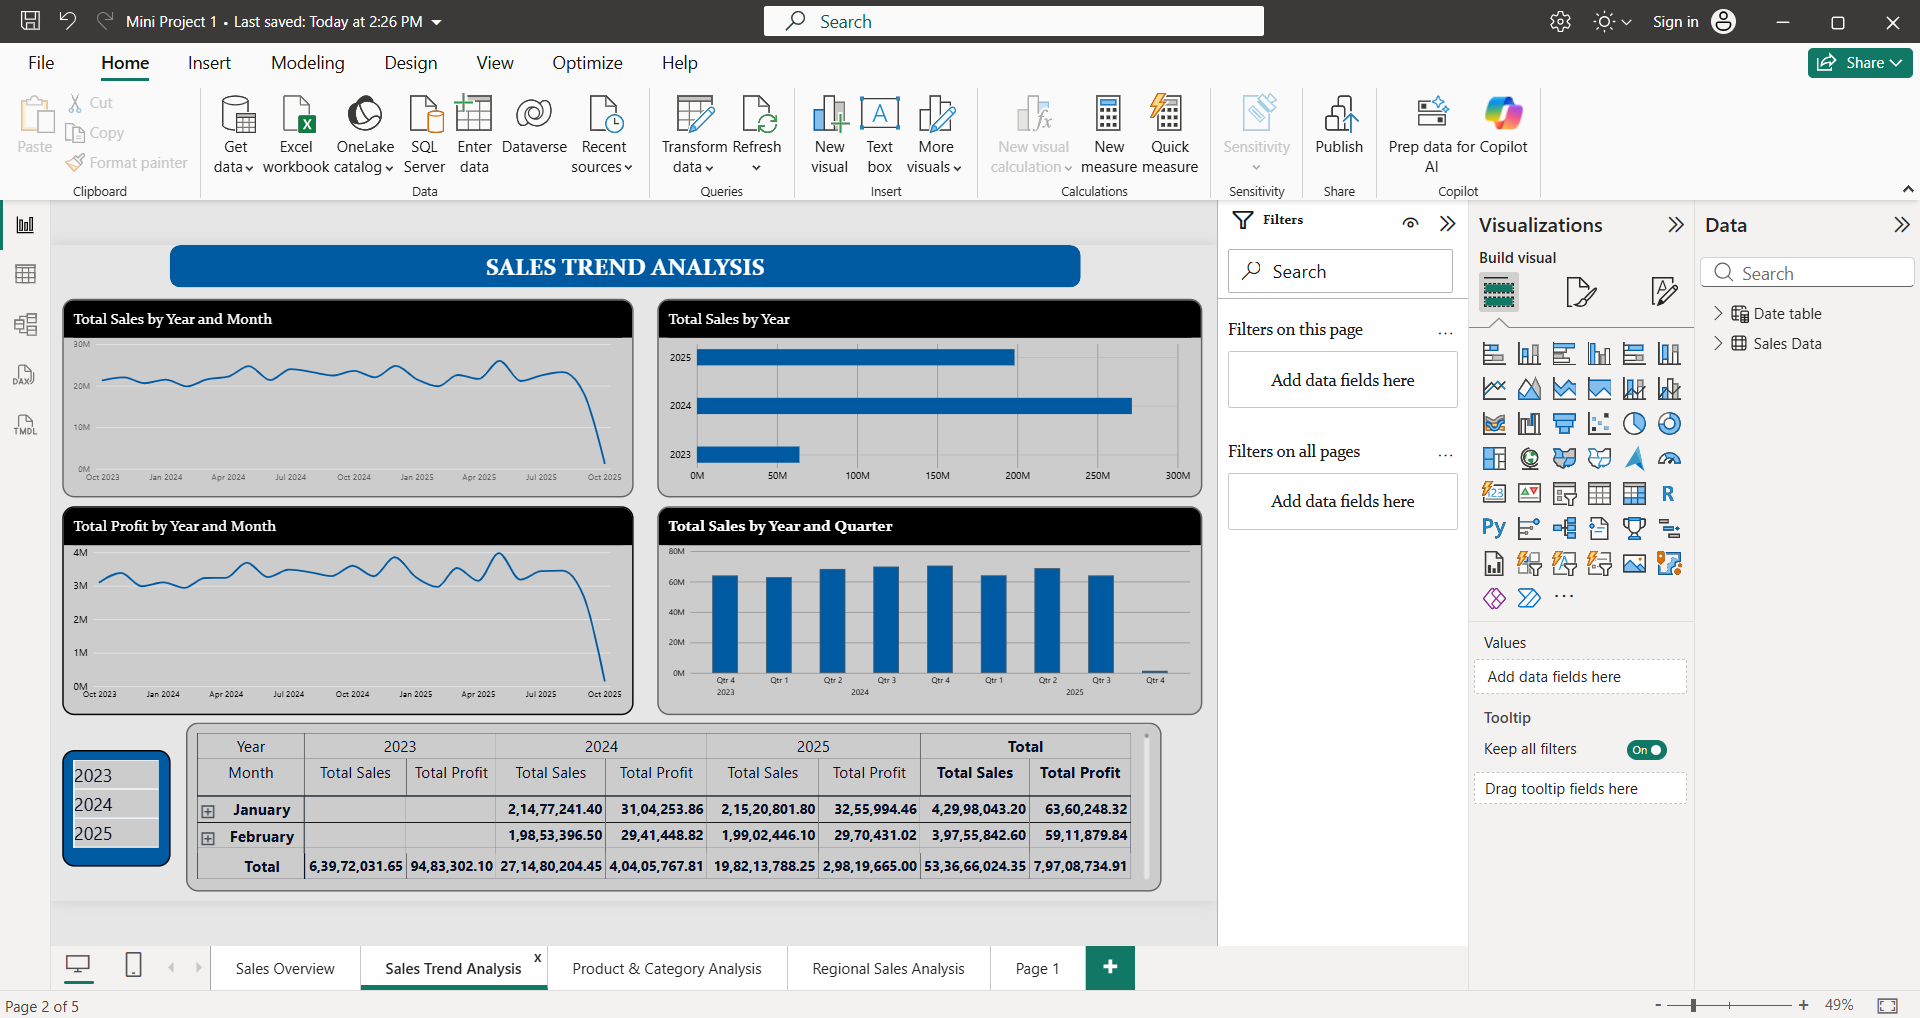

This screenshot's page, from the dashboard's own definition file:
{"tool":"powerbi","page":{"name":"Sales Trend Analysis","canvas":[1920,1080],"ordinal":1},"visuals":[{"type":"lineChart","fields":{"Category":["Date table.Date.Variation.Date Hierarchy.Year","Date table.Date.Variation.Date Hierarchy.Month"],"Y":["Sales Data.Total Sales"]},"box":[18.5,88.5,940.7,327.3],"z":0},{"type":"lineChart","fields":{"Category":["Date table.Date.Variation.Date Hierarchy.Year","Date table.Date.Variation.Date Hierarchy.Month"],"Y":["Sales Data.Total Profit"]},"box":[18.5,430.2,940.7,343.7],"z":1},{"type":"clusteredBarChart","fields":{"Category":["Date table.Year"],"Y":["Sales Data.Total Sales"]},"box":[998.3,88.5,897.4,327.3],"z":2},{"type":"columnChart","fields":{"Category":["Date table.Date.Variation.Date Hierarchy.Year","Date table.Date.Variation.Date Hierarchy.Quarter"],"Y":["Sales Data.Total Sales"]},"box":[998.3,430.2,897.4,343.7],"z":3},{"type":"pivotTable","fields":{"Columns":["Date table.Year"],"Rows":["Date table.Date.Variation.Date Hierarchy.Month","Sales Data.Category"],"Values":["Sales Data.Total Sales","Sales Data.Total Profit"]},"box":[222,786,1606,278],"z":4},{"type":"listSlicer","fields":{"Values":["Date table.Year"]},"box":[18,832,178,192],"z":5},{"type":"shape","box":[196,0,1500,70],"z":6}]}

Visuals, with their boxes on the page's 1920x1080 design canvas (x1, y1, x2, y2). These are canvas units, not pixel positions in the 1920x1018 screenshot, which may show the page scaled, cropped or inside an application window:
lineChart - Date table.Date.Variation.Date Hierarchy.Year x Date table.Date.Variation.Date Hierarchy.Month: bbox=(18, 88, 959, 416)
lineChart - Date table.Date.Variation.Date Hierarchy.Year x Date table.Date.Variation.Date Hierarchy.Month: bbox=(18, 430, 959, 774)
clusteredBarChart - Date table.Year x Sales Data.Total Sales: bbox=(998, 88, 1896, 416)
columnChart - Date table.Date.Variation.Date Hierarchy.Year x Date table.Date.Variation.Date Hierarchy.Quarter: bbox=(998, 430, 1896, 774)
pivotTable - Date table.Year x Date table.Date.Variation.Date Hierarchy.Month: bbox=(222, 786, 1828, 1064)
listSlicer - Date table.Year: bbox=(18, 832, 196, 1024)
shape: bbox=(196, 0, 1696, 70)
